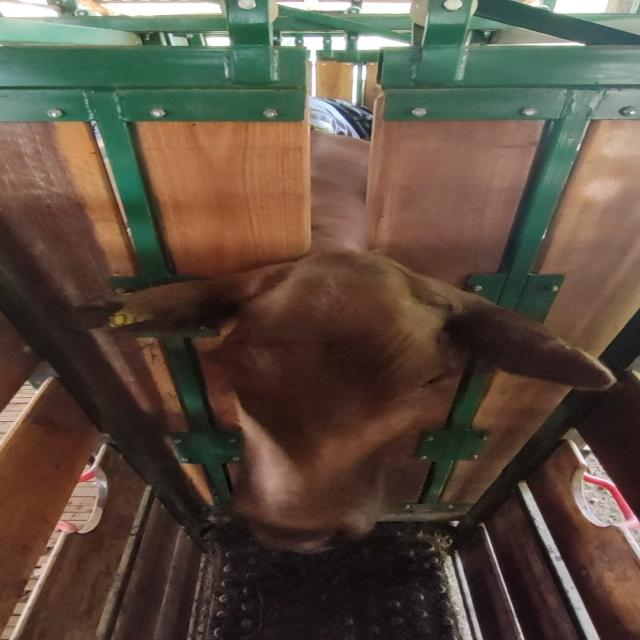cowFace: (224, 251, 452, 556)
